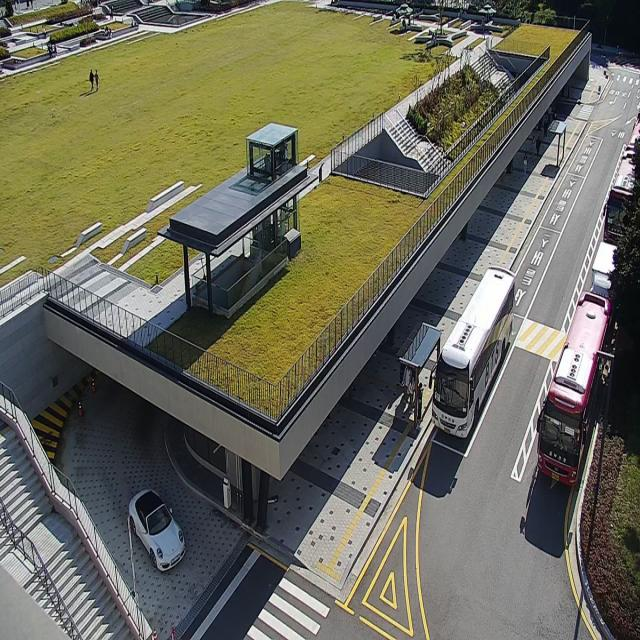queue: (415, 326, 441, 429)
